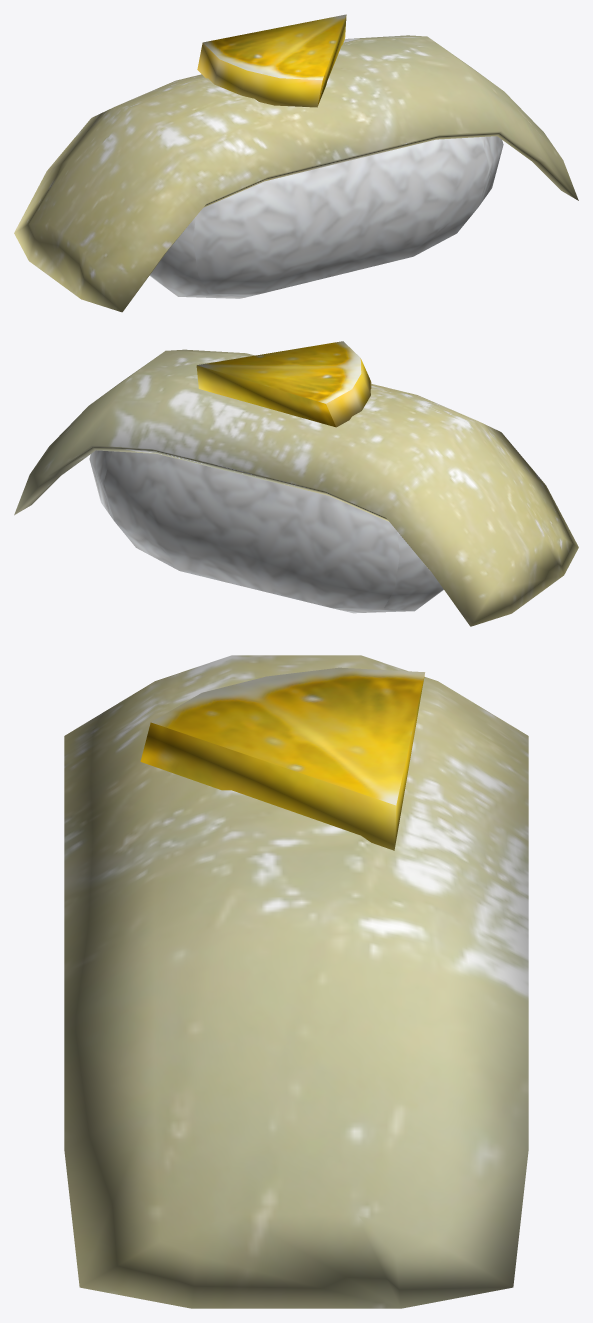
Rendered from squid_4.fbx.
3 views of the same model, one above another, from view 1: azimuth 30°, elevation 25°; view 2: azimuth 150°, elevation 25°; view 3: azimuth 270°, elevation 25° (orthographic). The views are drawn at different scales.
Parts seen in each view (by area): view 1: squid_4; view 2: squid_4; view 3: squid_4.
Boxes of the visible parts, <box> form: squid_4: <box>14,14,578,312</box>; squid_4: <box>14,341,578,626</box>; squid_4: <box>64,655,528,1308</box>.
Bounding box in the file's own units: 7.62 × 3.19 × 3.17.
